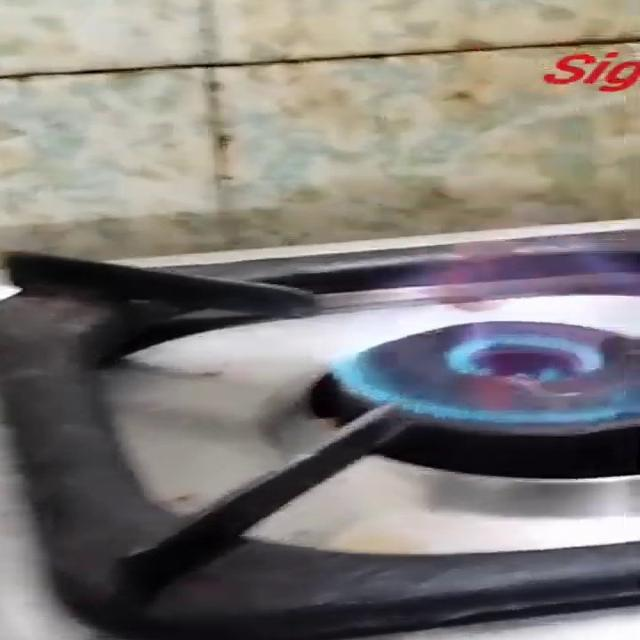fire: (270, 184, 640, 431)
